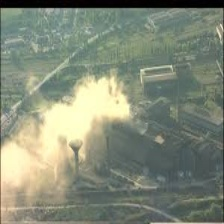smoke: (6, 82, 116, 198)
